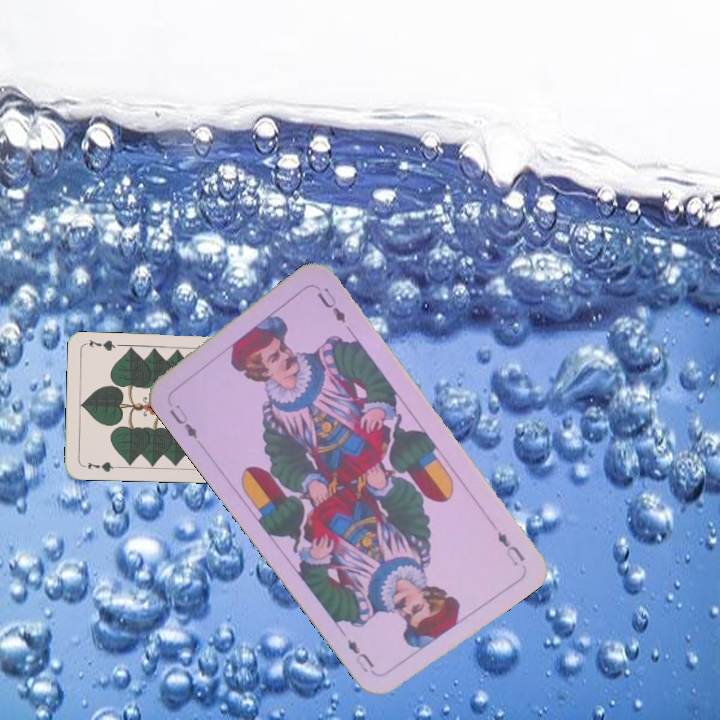EU: (165, 400, 201, 442), (493, 528, 527, 569)
G7: (79, 457, 119, 475)
